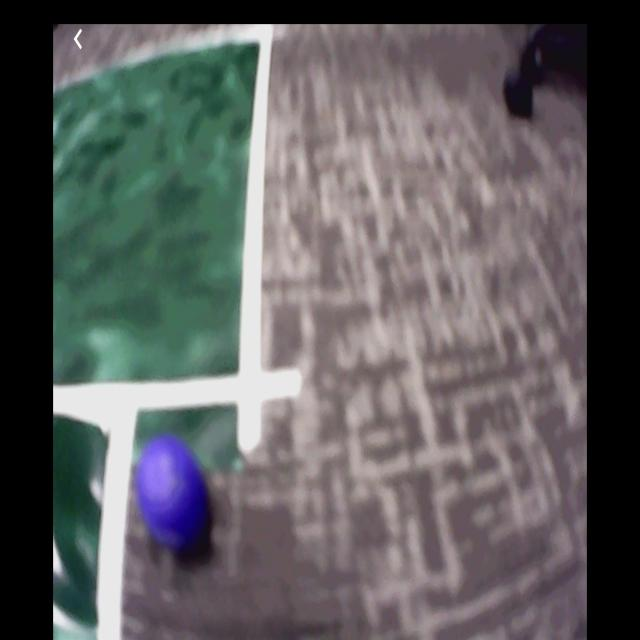ball: (137, 436, 214, 560)
